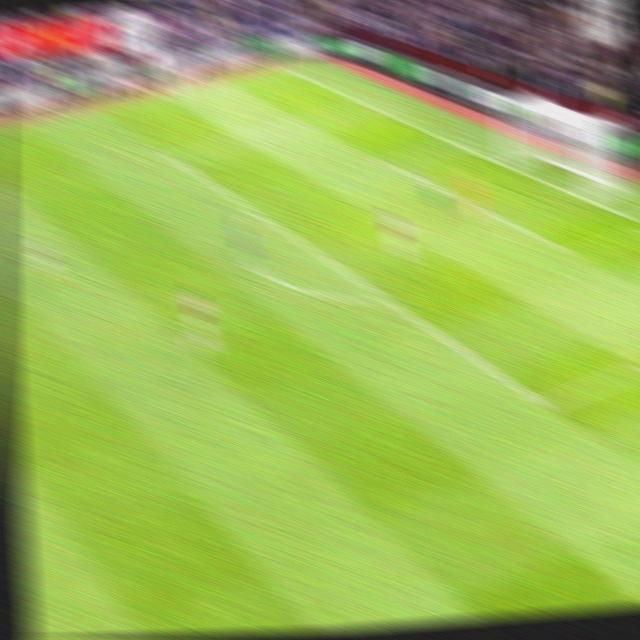bigarea_bottom_inner: (531, 392, 558, 418)
bigarea_top_inner: (163, 148, 186, 169)
bigarea_top_outter: (360, 99, 380, 113)
bottom_arc_area_intersection: (375, 289, 398, 310)
corner: (271, 62, 292, 75)
smallarea_bottom_inner: (562, 242, 588, 265)
smallarea_top_inner: (381, 155, 402, 172)
smallarea_top_outter: (445, 136, 467, 152)
top_arc_area_intersection: (246, 204, 268, 222)
